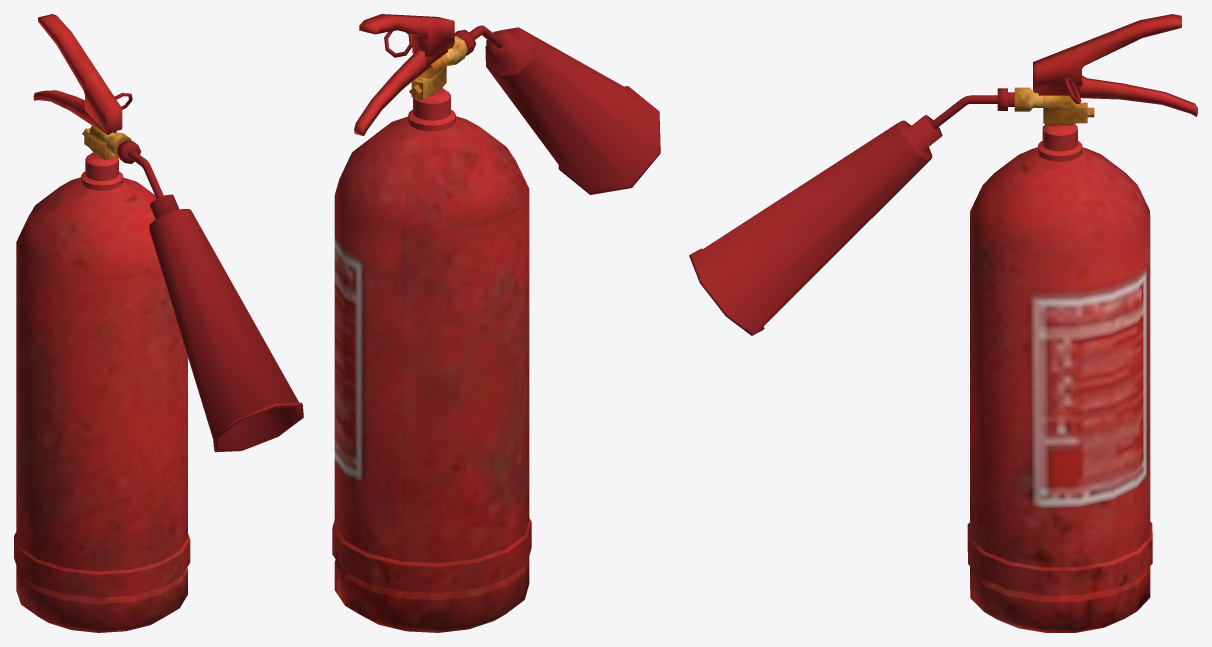
File: fire2.fbx
The picture shows the model from 3 angles, left to right: view 1: azimuth 30°, elevation 25°; view 2: azimuth 150°, elevation 25°; view 3: azimuth 270°, elevation 25°; orthographic projection. The views are drawn at different scales.
Visible parts, largest first — view 1: Torus; view 2: Torus; view 3: Torus.
Part boxes in pixels (x1,y1,x2,y2): Torus: (14, 14, 303, 632); Torus: (332, 14, 660, 632); Torus: (689, 14, 1197, 632).
Size of the model in its own units: 282 by 981 by 776.
1 material, 1 textured.
